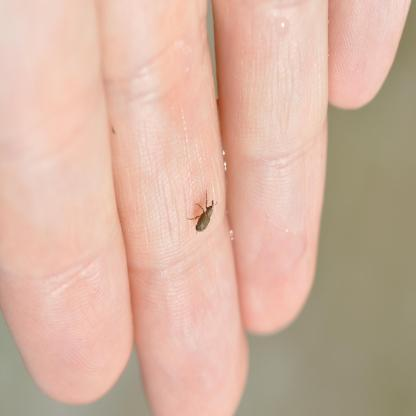rice-bug: (194, 190, 218, 233)
